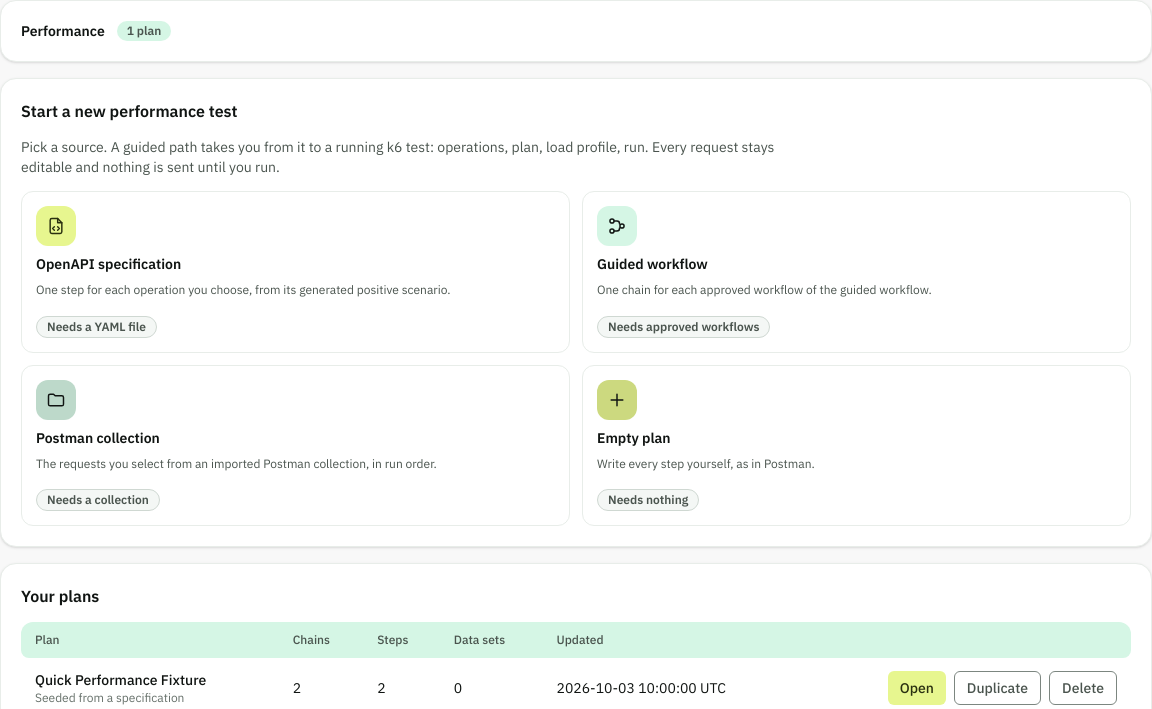
Scenario: PerformancePath: an opened plan (US2) › shows the operations of a plan seeded from another specification as a read-only summary, with the reason
Click the button with aria-label "Open Quick Performance Fixture" at point(917, 688), box [888,671,946,705]
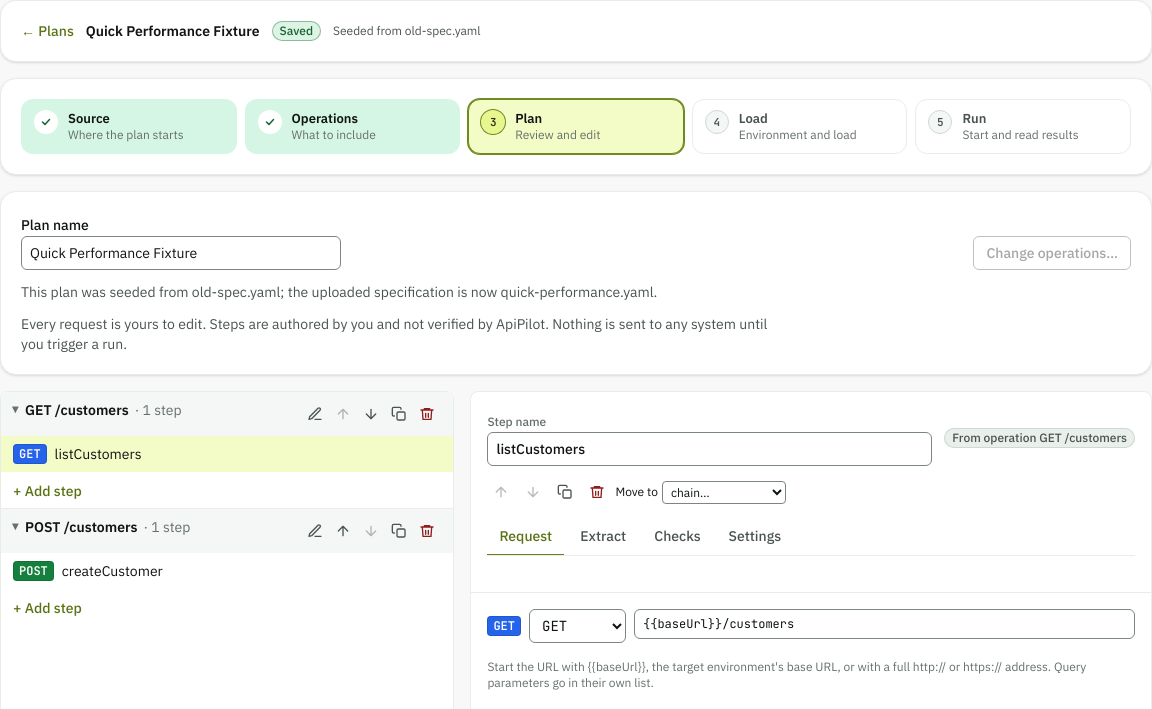
Result: the field labelled "Plan name" is shown at [21,236,341,270]
Click the button with test id "performance-step-operations" at point(352, 127), box [245,99,460,154]
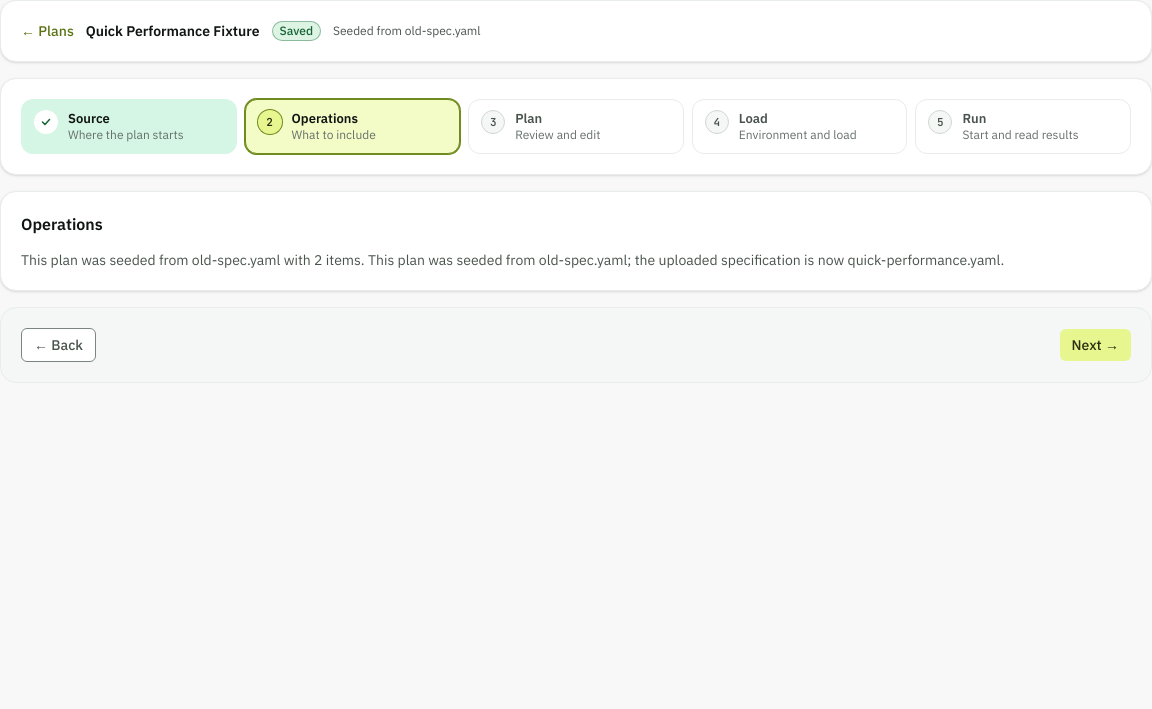
Result: the button "Next →" is enabled at [1060,329,1131,361]
Result: the element with test id "operations-step-readonly" shows "seeded from old-spec.yaml with 2 items" at [0,191,1151,291]
Result: the element with test id "operations-step-readonly" shows "the uploaded specification is now quick-performance.yaml" at [368,251,1004,269]
